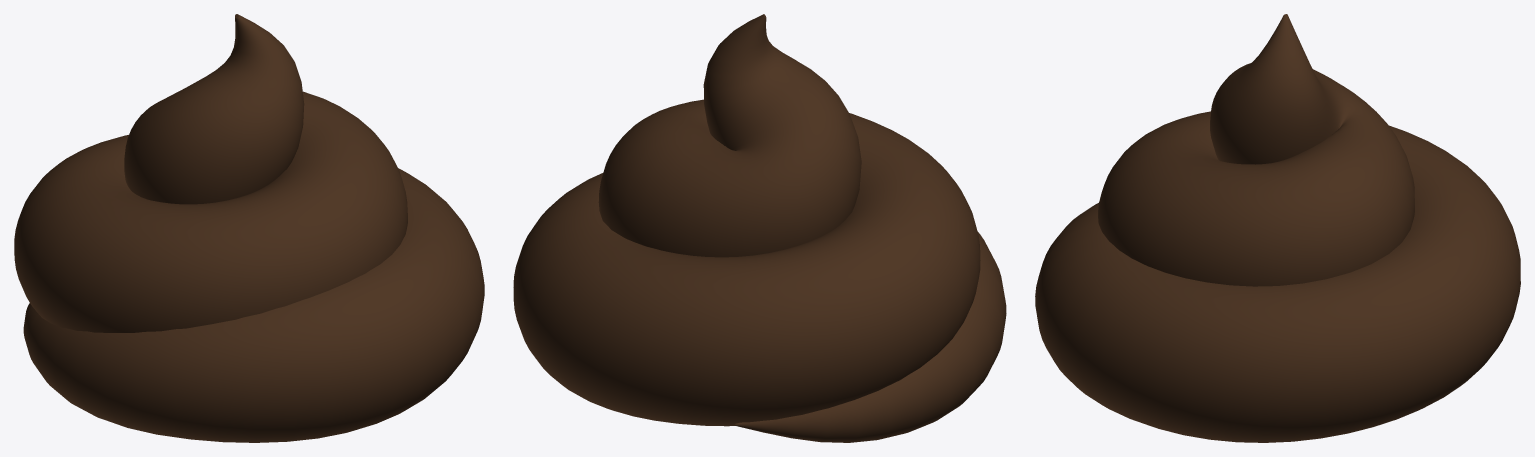
Rendered from poop.fbx.
3 renders of one model, left to right at view 1: azimuth 30°, elevation 25°; view 2: azimuth 150°, elevation 25°; view 3: azimuth 270°, elevation 25°, orthographic. The views are drawn at different scales.
Visible parts, largest first — view 1: Spiral.001; view 2: Spiral.001; view 3: Spiral.001.
Boxes of the visible parts, x1,y1,x2,y2 form: Spiral.001: (14, 14, 484, 442); Spiral.001: (513, 14, 1006, 442); Spiral.001: (1035, 14, 1520, 442).
Bounding box in the file's own units: 125 × 104 × 129.
